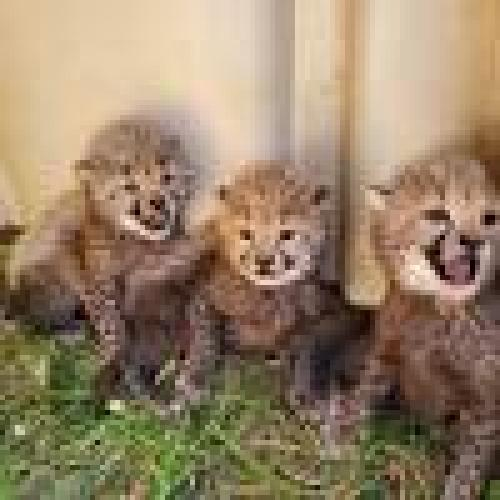cheetah-endangered: (324, 155, 500, 500), (14, 118, 196, 396), (175, 165, 343, 403)
